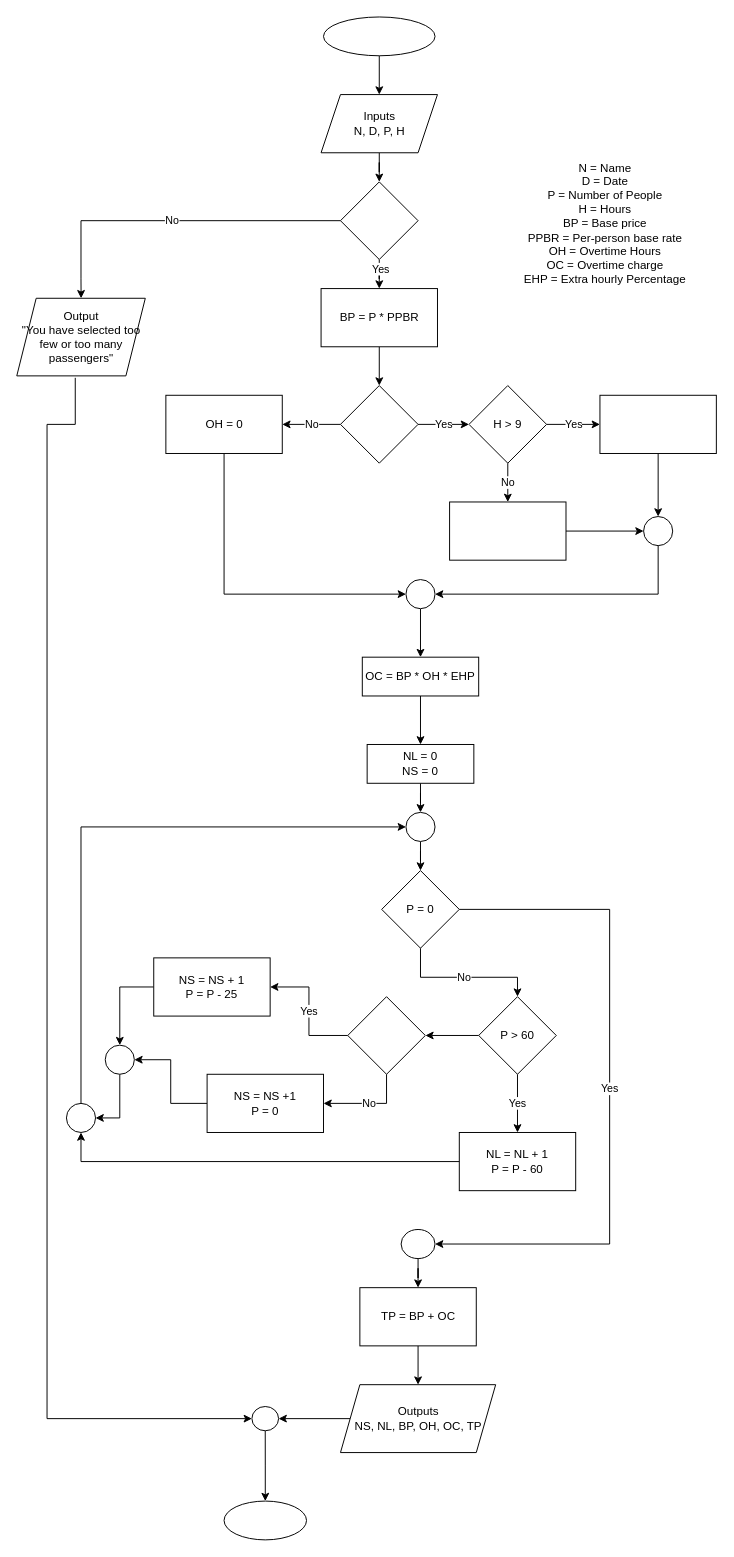
This 734x1557 diagram has some shape labels left out. The shapes that lost their labels are listed below. From the top down, each one's centre as x and y in pixels, then its label:
At (379,36): "START".
At (379,220): "20 < P < 120".
At (379,424): "H > 5".
At (657,423): "OH = 4".
At (507,530): "OH = H - 5".
At (386,1035): "P > 25".
At (265,1520): "End".
